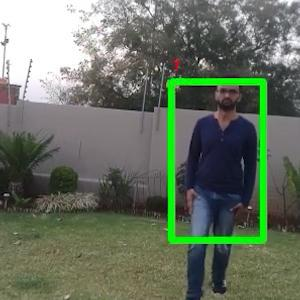follow: (187, 83, 250, 283)
